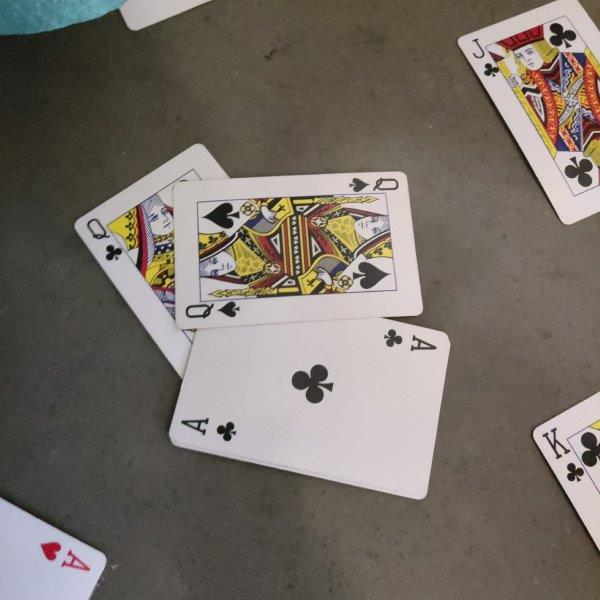Ace of Clubs: (167, 318, 452, 501)
Ace of Hearts: (1, 498, 108, 600)
Jack of Clubs: (456, 1, 600, 225)
King of Clubs: (531, 391, 600, 553)
Queen of Clubs: (74, 143, 231, 381)
Queen of Spades: (173, 171, 425, 331)
